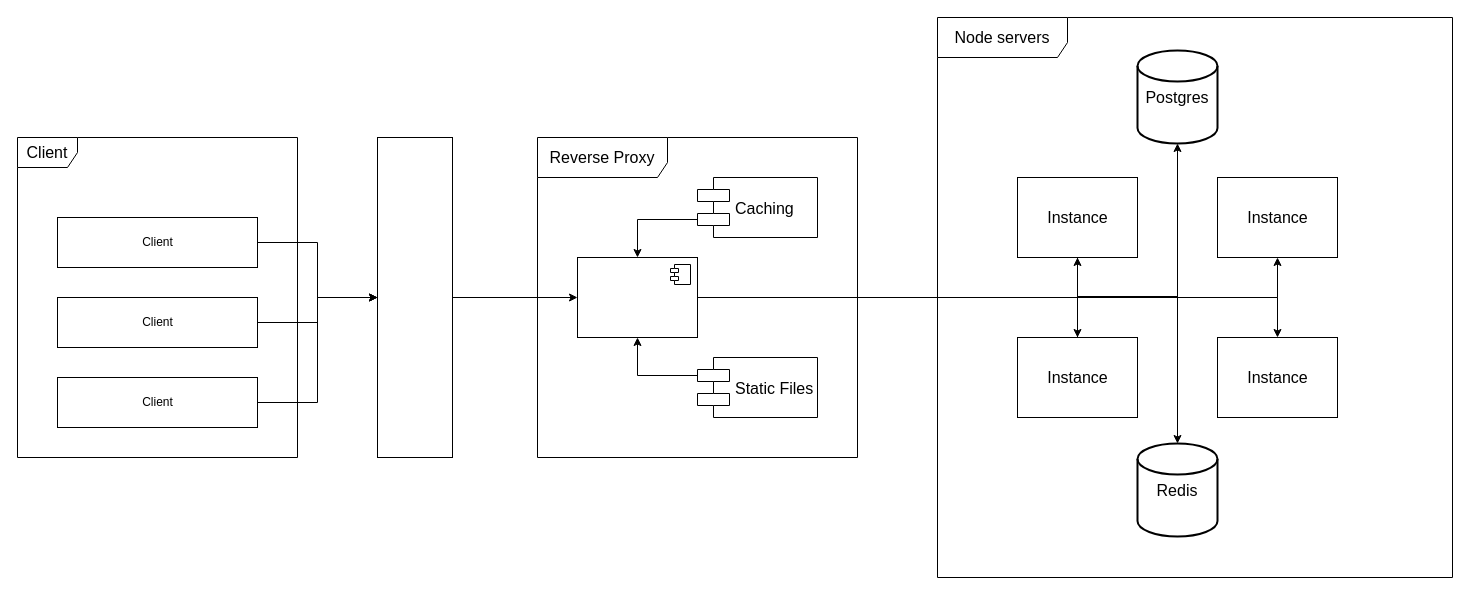
Image size: 1470x595. Some labels were removed from this diagram. The shapes that lost their labels are listed below. From the top down, each one's centre as x and y in pixels, then its label:
At (x=414, y=297): "«interface» API + Sockets".
At (x=637, y=297): "Nginx".
